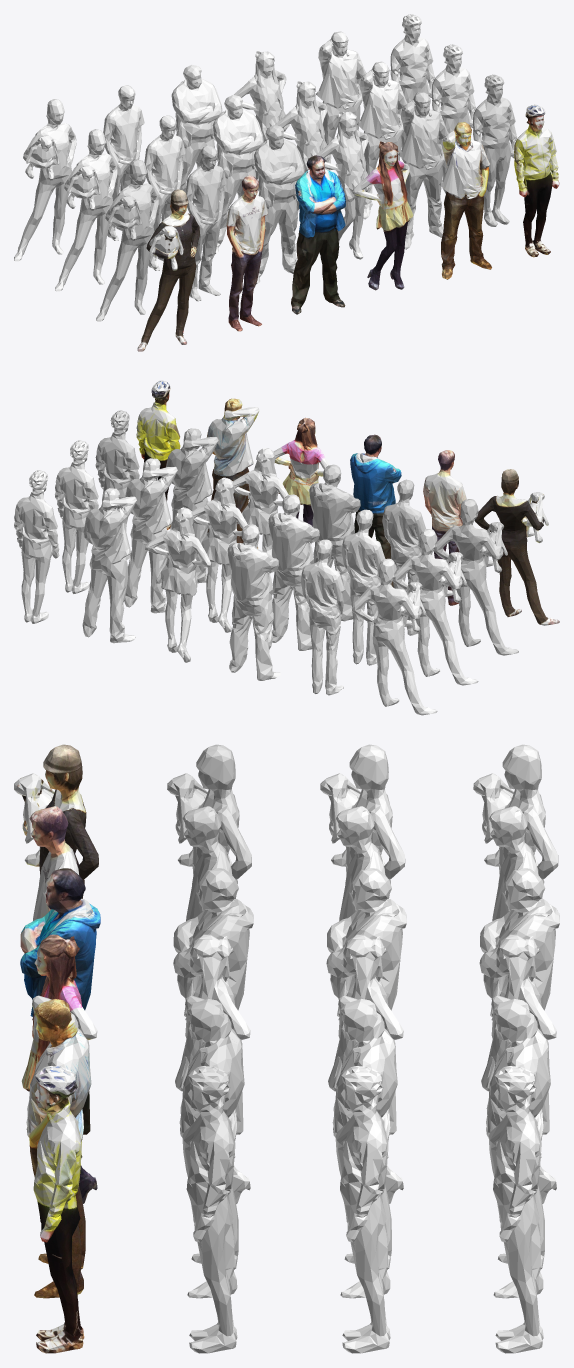
The model's file is personas.glb.
3 views of the same model, one above another, from view 1: azimuth 30°, elevation 25°; view 2: azimuth 150°, elevation 25°; view 3: azimuth 270°, elevation 25° (orthographic). The views are drawn at different scales.
Visible parts, largest first — view 1: personas; view 2: personas; view 3: personas.
Boxes of the visible parts, bbox=[...] form: personas: bbox=[14, 14, 559, 351]; personas: bbox=[14, 380, 559, 715]; personas: bbox=[14, 744, 559, 1353].
Bounding box in the file's own units: 7.52 × 2.56 × 4.53.
Materials: 24 (6 with a texture image).
